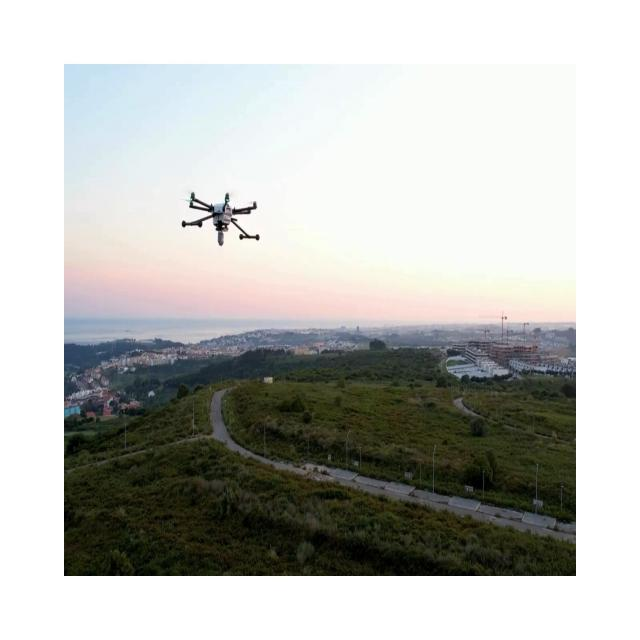drone: (180, 190, 260, 246)
